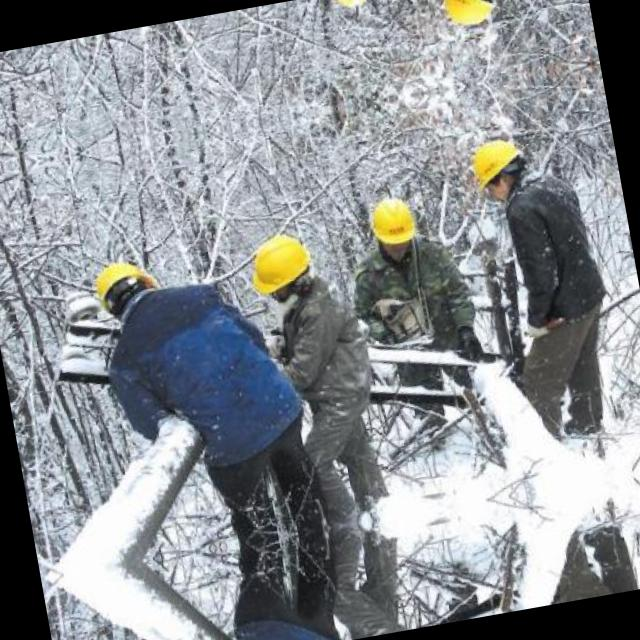helmet: (237, 222, 325, 310), (458, 127, 534, 205), (86, 252, 162, 324), (361, 190, 420, 260), (428, 0, 505, 38), (325, 0, 379, 15)
